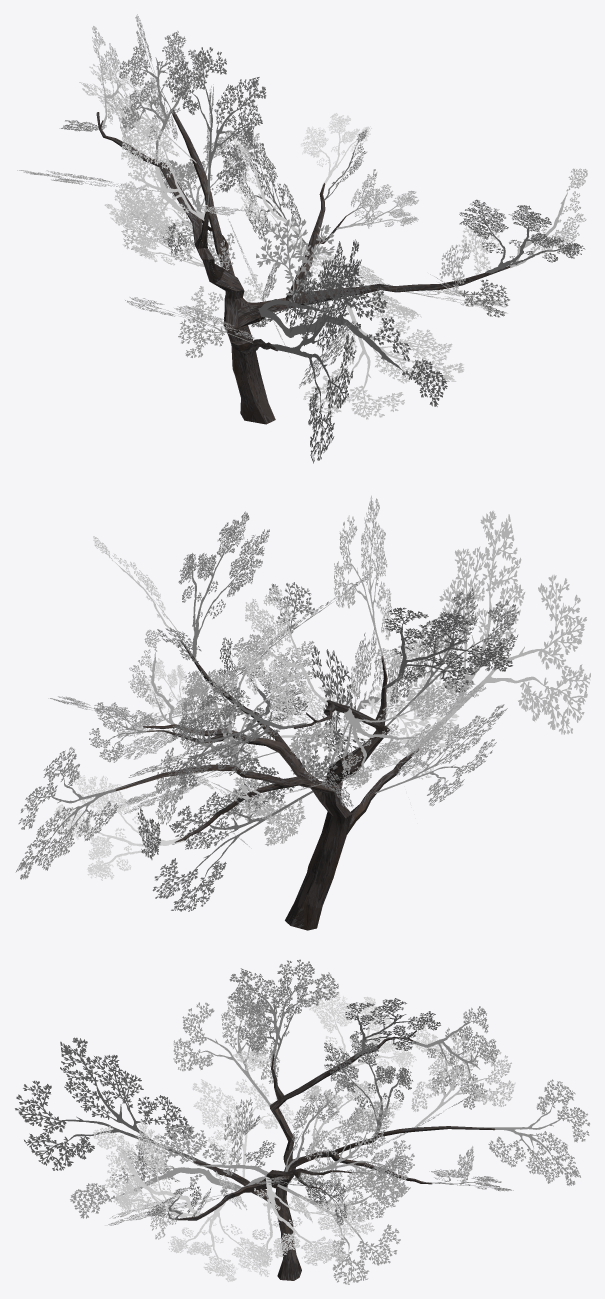
The model's file is CI_Tree_StraightOak_MOD_v3.fbx.
3 renders of one model, top to bottom at view 1: azimuth 30°, elevation 25°; view 2: azimuth 150°, elevation 25°; view 3: azimuth 270°, elevation 25°, orthographic. The views are drawn at different scales.
Visible parts, largest first — view 1: Tree_StraightOak001Backup, Tree_LiveOak_Branch_01_013Backup, Tree_LiveOak_Branch_01_016Backup, Tree_LiveOak_Branch_04_007Backup, Tree_LiveOak_Branch_01_020Backup, Tree_LiveOak_Branch_03_004Backup, Tree_LiveOak_Branch_03_006Backup, Tree_LiveOak_Branch_02_013Backup, Tree_LiveOak_Branch_05_009Backup, Tree_LiveOak_Branch_01_012Backup, Tree_LiveOak_Branch_04_012Backup, Tree_LiveOak_Branch_01_017Backup (+17 smaller); view 2: Tree_LiveOak_Branch_01_013Backup, Tree_StraightOak001Backup, Tree_LiveOak_Branch_02_018Backup, Tree_LiveOak_Branch_01_011Backup, Tree_LiveOak_Branch_02_017Backup, Tree_LiveOak_Branch_03_005Backup, Tree_LiveOak_Branch_01_018Backup, Tree_LiveOak_Branch_03_004Backup, Tree_LiveOak_Branch_02_013Backup, Tree_LiveOak_Branch_03_006Backup, Tree_LiveOak_Branch_02_016Backup, Tree_LiveOak_Branch_01_019Backup (+22 smaller); view 3: Tree_LiveOak_Branch_01_013Backup, Tree_StraightOak001Backup, Tree_LiveOak_Branch_01_011Backup, Tree_LiveOak_Branch_04_007Backup, Tree_LiveOak_Branch_02_010Backup, Tree_LiveOak_Branch_01_018Backup, Tree_LiveOak_Branch_01_012Backup, Tree_LiveOak_Branch_01_019Backup, Tree_LiveOak_Branch_01_020Backup, Tree_LiveOak_Branch_01_017Backup, Tree_LiveOak_Branch_02_018Backup, Tree_LiveOak_Branch_01_014Backup (+15 smaller).
Boxes of the visible parts, bbox=[...] form: Tree_StraightOak001Backup: bbox=[96, 109, 510, 424]; Tree_LiveOak_Branch_01_013Backup: bbox=[271, 239, 361, 463]; Tree_LiveOak_Branch_01_016Backup: bbox=[303, 295, 464, 419]; Tree_LiveOak_Branch_04_007Backup: bbox=[258, 264, 447, 406]; Tree_LiveOak_Branch_01_020Backup: bbox=[168, 47, 266, 205]; Tree_LiveOak_Branch_03_004Backup: bbox=[114, 118, 204, 244]; Tree_LiveOak_Branch_03_006Backup: bbox=[119, 30, 207, 159]; Tree_LiveOak_Branch_02_013Backup: bbox=[459, 199, 585, 273]; Tree_LiveOak_Branch_05_009Backup: bbox=[256, 216, 335, 302]; Tree_LiveOak_Branch_01_012Backup: bbox=[235, 124, 306, 244]; Tree_LiveOak_Branch_04_012Backup: bbox=[117, 118, 228, 244]; Tree_LiveOak_Branch_01_017Backup: bbox=[79, 64, 196, 163]; Tree_LiveOak_Branch_01_013Backup: bbox=[406, 510, 590, 756]; Tree_StraightOak001Backup: bbox=[116, 640, 418, 930]; Tree_LiveOak_Branch_02_018Backup: bbox=[341, 676, 486, 789]; Tree_LiveOak_Branch_01_011Backup: bbox=[152, 777, 312, 911]; Tree_LiveOak_Branch_02_017Backup: bbox=[182, 625, 314, 774]; Tree_LiveOak_Branch_03_005Backup: bbox=[167, 684, 306, 787]; Tree_LiveOak_Branch_01_018Backup: bbox=[15, 747, 135, 879]; Tree_LiveOak_Branch_03_004Backup: bbox=[382, 607, 512, 692]; Tree_LiveOak_Branch_02_013Backup: bbox=[178, 511, 269, 657]; Tree_LiveOak_Branch_03_006Backup: bbox=[240, 586, 327, 720]; Tree_LiveOak_Branch_02_016Backup: bbox=[54, 775, 184, 880]; Tree_LiveOak_Branch_01_019Backup: bbox=[386, 588, 518, 726]; Tree_LiveOak_Branch_01_013Backup: bbox=[15, 1037, 206, 1170]; Tree_StraightOak001Backup: bbox=[177, 1031, 495, 1280]; Tree_LiveOak_Branch_01_011Backup: bbox=[277, 1161, 410, 1284]; Tree_LiveOak_Branch_04_007Backup: bbox=[70, 1123, 268, 1218]; Tree_LiveOak_Branch_02_010Backup: bbox=[247, 1176, 374, 1266]; Tree_LiveOak_Branch_01_018Backup: bbox=[477, 1079, 589, 1185]; Tree_LiveOak_Branch_01_012Backup: bbox=[300, 1101, 414, 1205]; Tree_LiveOak_Branch_01_019Backup: bbox=[173, 983, 279, 1105]; Tree_LiveOak_Branch_01_020Backup: bbox=[228, 959, 338, 1063]; Tree_LiveOak_Branch_01_017Backup: bbox=[411, 1032, 515, 1127]; Tree_LiveOak_Branch_02_018Backup: bbox=[309, 983, 416, 1072]; Tree_LiveOak_Branch_01_014Backup: bbox=[192, 1079, 294, 1177].
Bounding box in the file's own units: 838 × 669 × 1158.
